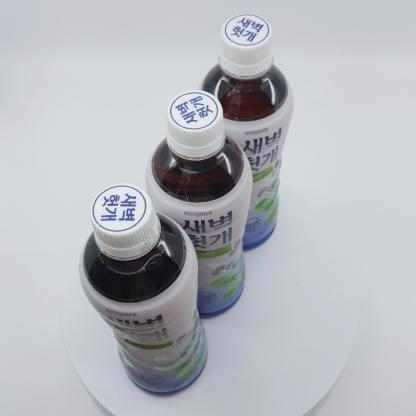---------520ML: (79, 183, 209, 397), (144, 90, 253, 318), (197, 13, 295, 252)
